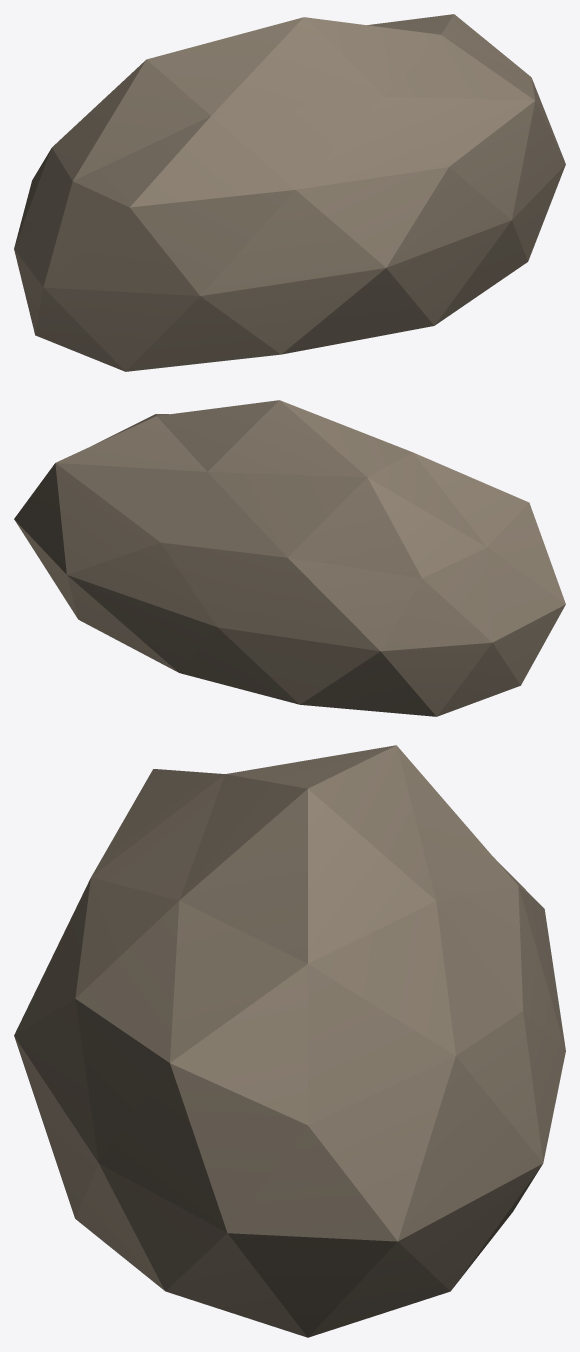
Rendered from rock-02-ochre.glb.
3 views of the same model, one above another, from view 1: azimuth 30°, elevation 25°; view 2: azimuth 150°, elevation 25°; view 3: azimuth 270°, elevation 25° (orthographic). The views are drawn at different scales.
Visible parts, largest first — view 1: rock-02-ochre; view 2: rock-02-ochre; view 3: rock-02-ochre.
Part boxes in pixels (box(x1,y1,x2,y2)): rock-02-ochre: box(14, 14, 565, 371); rock-02-ochre: box(14, 400, 565, 716); rock-02-ochre: box(14, 745, 565, 1337).
Size of the model in its own units: 2.77 by 1.26 by 1.61.
